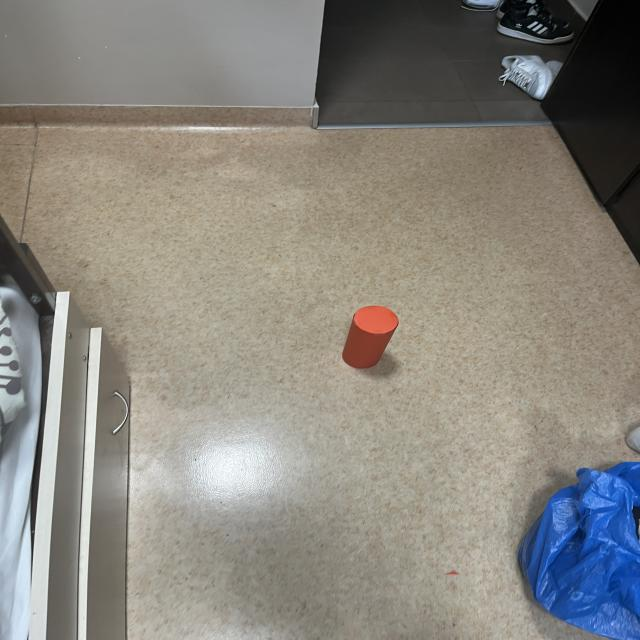przeszkoda: (342, 306, 398, 369)
